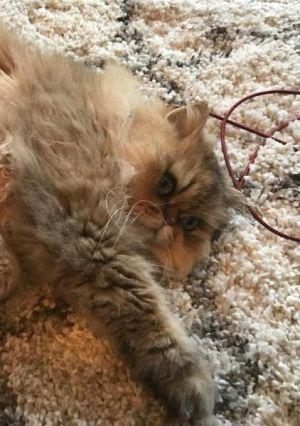persian: (103, 95, 243, 293)
